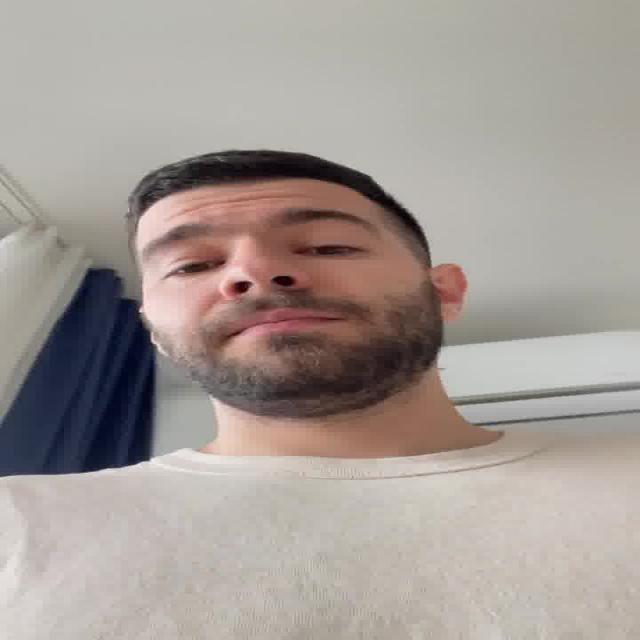earlobe: (146, 337, 172, 360), (438, 310, 459, 326)
eye: (157, 258, 225, 277), (292, 241, 368, 258)
nose: (220, 287, 316, 310)
wholeear: (430, 262, 472, 326)
